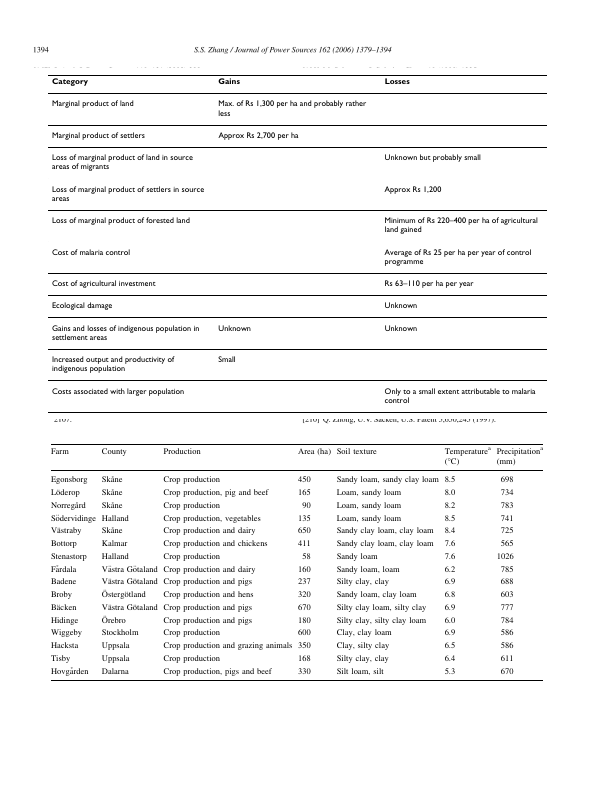borderless: (47, 73, 547, 412), (50, 442, 543, 680)
cell: (50, 185, 205, 204), (383, 216, 538, 235), (383, 387, 536, 406), (217, 100, 367, 119), (50, 324, 200, 343), (383, 248, 532, 267), (50, 153, 193, 172), (50, 355, 175, 374), (50, 216, 190, 226), (50, 387, 185, 397), (162, 641, 293, 651), (162, 667, 272, 677), (443, 445, 492, 467), (495, 445, 544, 467), (162, 488, 269, 498), (50, 279, 156, 289), (162, 539, 268, 549), (335, 476, 440, 486), (162, 514, 261, 524), (335, 527, 434, 537), (335, 539, 434, 549), (383, 153, 481, 163), (50, 131, 145, 141), (162, 527, 256, 537), (162, 565, 256, 575), (162, 590, 254, 600), (335, 603, 427, 613), (335, 616, 427, 626), (383, 279, 474, 289), (162, 578, 253, 588), (162, 603, 253, 613), (162, 616, 253, 626), (217, 131, 299, 141), (335, 590, 417, 600), (50, 248, 131, 258), (50, 100, 134, 109), (335, 488, 402, 498), (335, 501, 402, 511), (335, 514, 402, 524), (335, 565, 400, 575), (383, 185, 442, 195), (162, 476, 221, 486), (162, 501, 221, 511), (162, 552, 221, 562), (162, 629, 221, 639), (162, 654, 221, 664), (100, 565, 158, 575), (100, 578, 158, 588), (100, 603, 158, 613), (335, 629, 392, 639), (50, 302, 113, 311), (335, 641, 390, 651), (335, 578, 389, 588), (335, 654, 389, 664), (100, 589, 146, 600), (335, 667, 384, 677), (50, 514, 97, 524), (335, 552, 378, 562), (335, 447, 377, 457), (162, 447, 201, 457), (100, 629, 139, 639), (50, 667, 89, 677), (50, 476, 88, 486), (50, 552, 87, 562), (50, 501, 86, 511), (383, 324, 418, 334), (297, 447, 332, 457), (50, 78, 88, 87), (217, 324, 251, 334), (50, 629, 83, 639), (50, 527, 82, 537), (383, 302, 418, 311), (100, 614, 126, 626), (50, 488, 80, 498), (100, 641, 130, 651), (100, 654, 130, 664), (100, 514, 129, 524), (100, 552, 129, 562), (50, 616, 79, 626), (50, 641, 79, 651), (100, 667, 129, 677), (100, 539, 128, 549), (100, 447, 127, 457), (50, 539, 77, 549), (50, 565, 77, 575), (50, 578, 77, 588), (50, 603, 77, 613), (100, 475, 123, 486), (100, 526, 123, 537), (383, 78, 410, 87), (100, 488, 123, 498), (100, 501, 123, 511), (50, 590, 73, 600), (50, 654, 71, 664), (217, 78, 240, 87), (49, 447, 69, 457), (217, 355, 236, 365), (495, 552, 514, 562), (499, 476, 514, 486), (499, 488, 514, 498), (499, 501, 514, 511), (499, 514, 514, 524), (499, 527, 514, 537), (499, 539, 514, 549), (499, 565, 514, 575), (499, 578, 514, 588), (499, 590, 514, 600), (499, 603, 514, 613), (499, 616, 514, 626), (499, 629, 514, 639), (499, 641, 514, 651), (499, 654, 514, 664), (499, 667, 514, 677), (297, 476, 311, 486), (297, 488, 311, 498), (297, 514, 311, 524), (297, 527, 311, 537), (297, 539, 311, 549), (297, 565, 311, 575), (297, 578, 311, 588), (297, 590, 311, 600), (297, 603, 311, 613), (297, 616, 311, 626), (297, 629, 311, 639), (297, 641, 311, 651), (297, 654, 311, 664), (297, 667, 311, 677), (443, 476, 456, 486), (443, 488, 456, 498), (443, 501, 456, 511), (443, 514, 456, 524), (443, 527, 456, 537), (443, 539, 456, 549), (443, 552, 456, 562), (443, 565, 456, 575), (443, 578, 456, 588), (443, 590, 456, 600), (443, 603, 456, 613), (443, 616, 456, 626), (443, 629, 456, 639), (443, 641, 456, 651), (443, 654, 456, 664), (443, 667, 456, 677), (301, 501, 311, 511), (301, 552, 311, 562)
